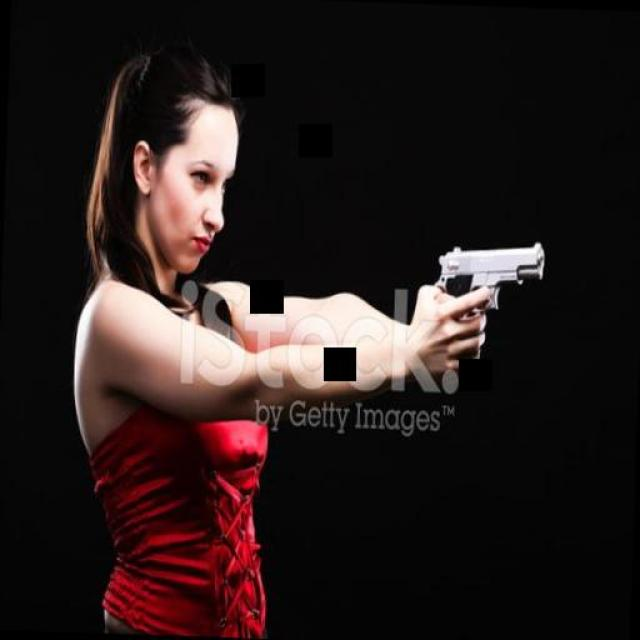gun: (431, 232, 544, 328)
